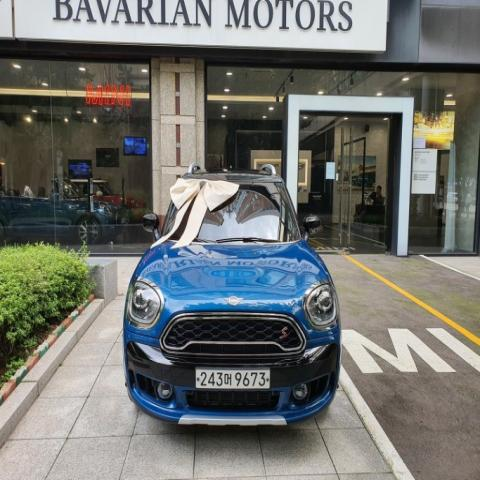LP: (192, 361, 274, 394)
